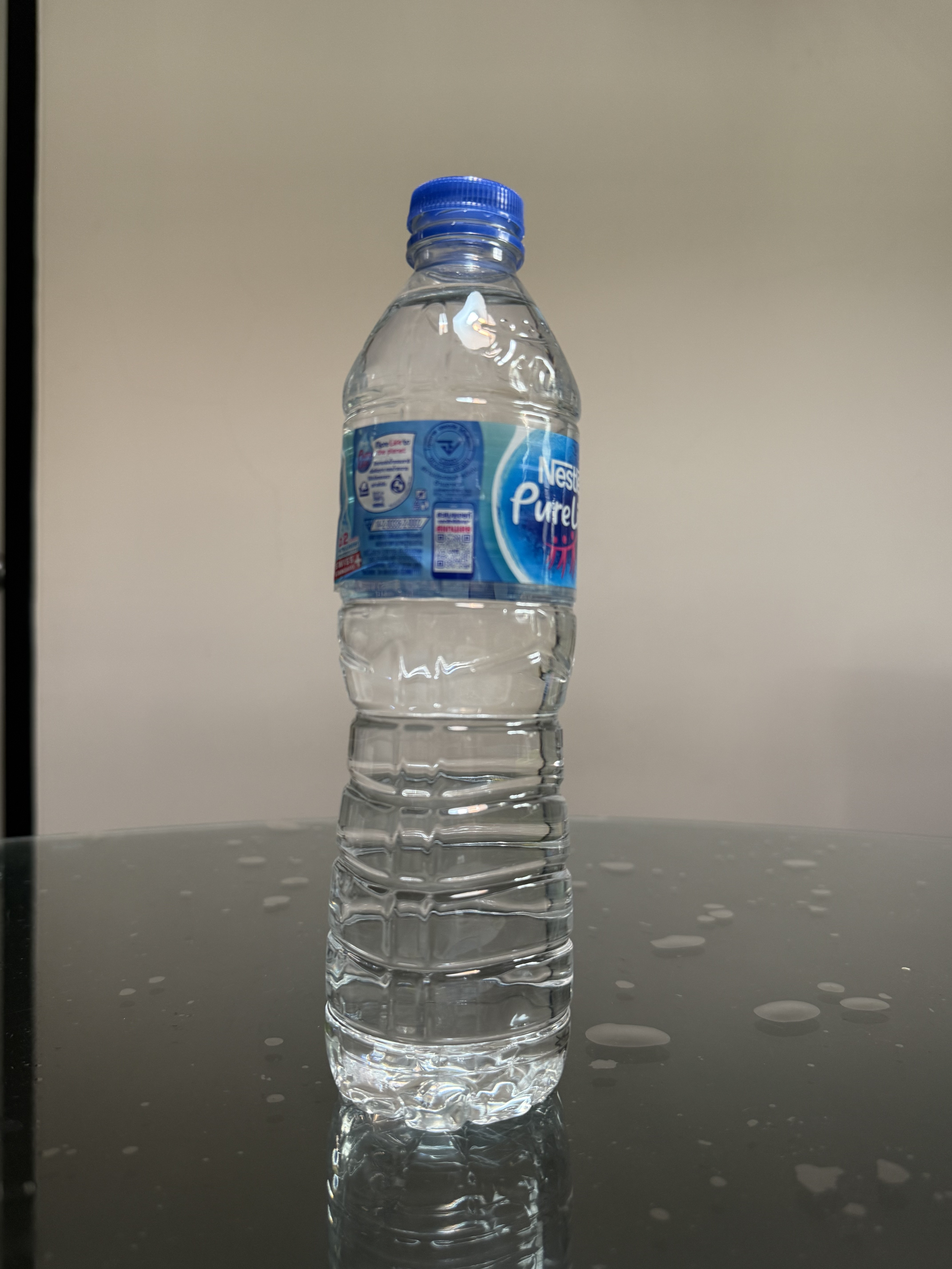half_cap: (403, 171, 527, 272)
